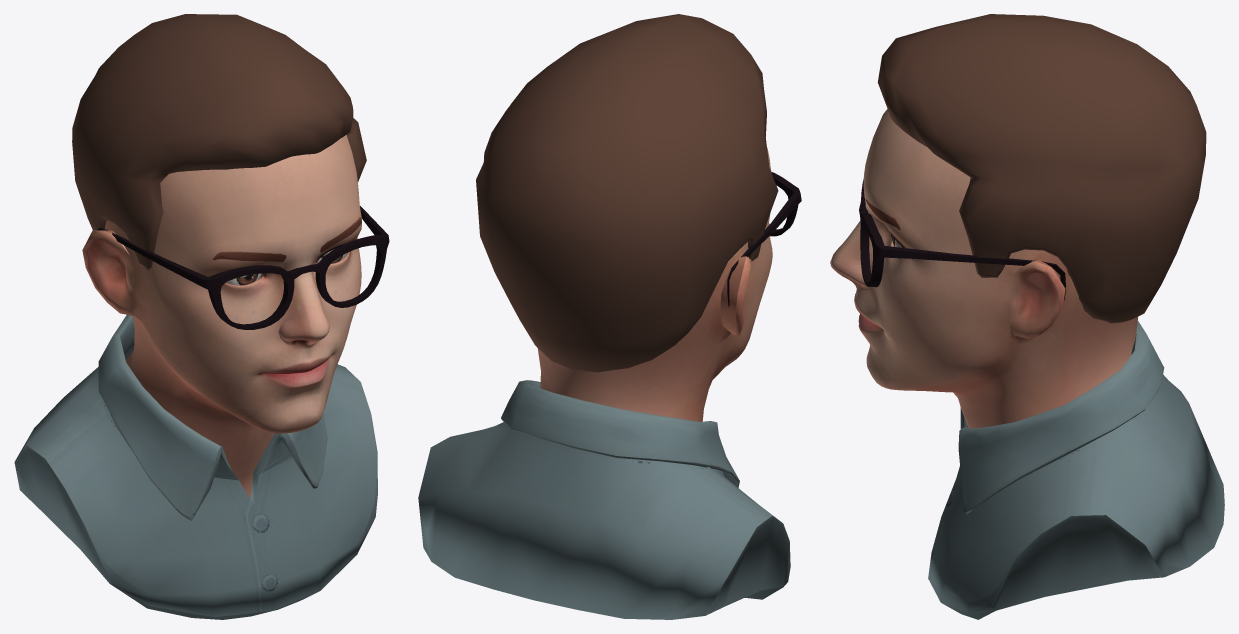
The picture shows the model from 3 angles, left to right: view 1: azimuth 30°, elevation 25°; view 2: azimuth 150°, elevation 25°; view 3: azimuth 270°, elevation 25°; orthographic projection. The views are drawn at different scales.
Parts seen in each view (by area): view 1: Wolf3D_Shirt, Wolf3D_Head, Wolf3D_Hair, Wolf3D_Glasses; view 2: Wolf3D_Hair, Wolf3D_Shirt, Wolf3D_Head, Wolf3D_Glasses; view 3: Wolf3D_Hair, Wolf3D_Shirt, Wolf3D_Head, Wolf3D_Glasses.
Boxes of the visible parts, x1,y1,x2,y2 form: Wolf3D_Shirt: (14, 314, 377, 619); Wolf3D_Head: (82, 135, 361, 498); Wolf3D_Hair: (72, 14, 366, 270); Wolf3D_Glasses: (97, 206, 389, 329); Wolf3D_Hair: (476, 14, 778, 372); Wolf3D_Shirt: (418, 380, 790, 619); Wolf3D_Head: (537, 147, 772, 421); Wolf3D_Glasses: (727, 172, 801, 306); Wolf3D_Hair: (877, 14, 1206, 323); Wolf3D_Shirt: (928, 320, 1224, 619); Wolf3D_Head: (830, 109, 1138, 428); Wolf3D_Glasses: (859, 179, 1065, 300).
Size of the model in its own units: 0.2312 by 0.386 by 0.2441.
6 materials, 6 textured.
